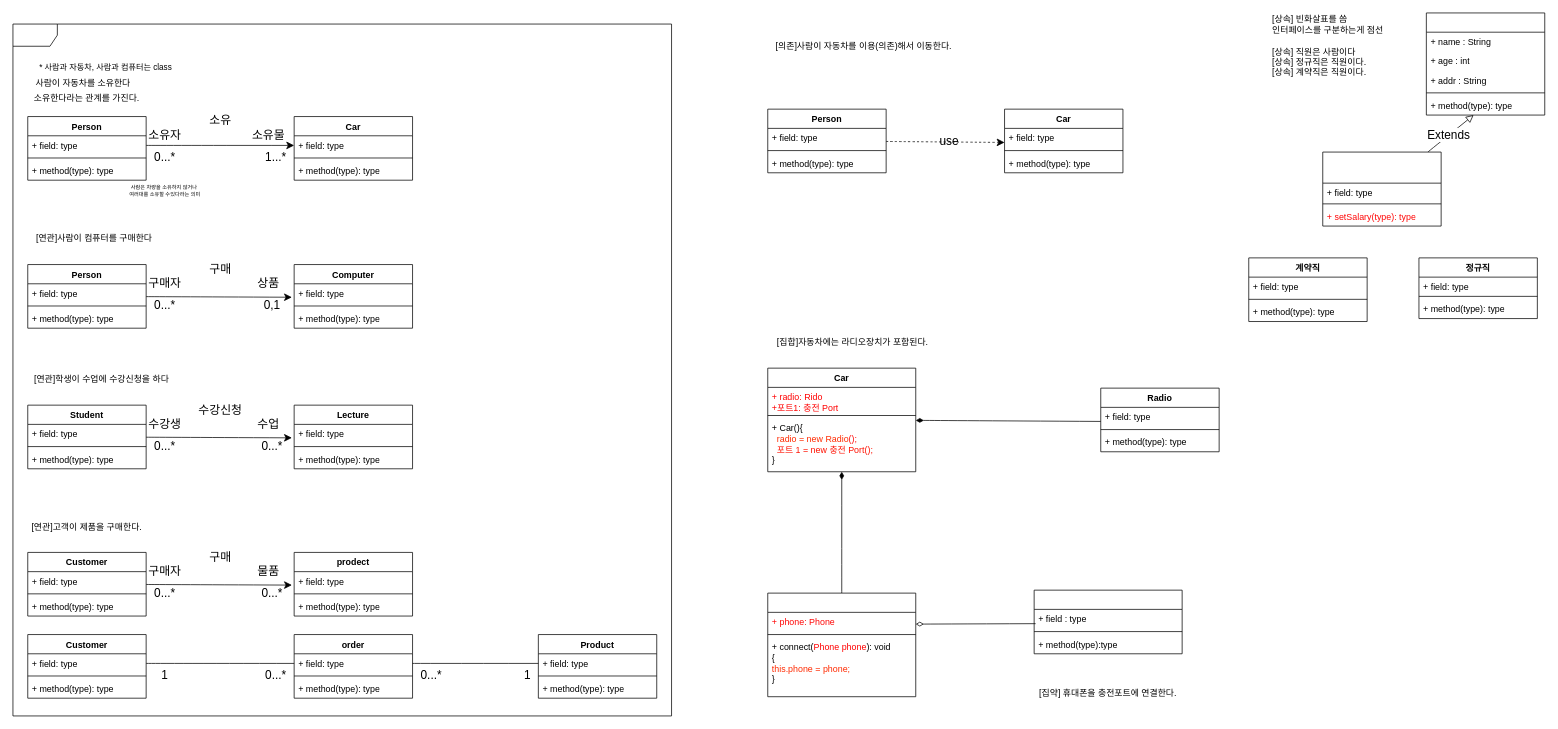
Image size: 1558x729. Some labels were removed from this diagram. Here are the shapes that lost their labels. From the top down, the box of each, then its label:
(1426, 12, 1545, 115): 사람
(1322, 151, 1441, 226): 직원 <<abstract>>
(12, 23, 672, 716): 연관관계
(1033, 589, 1182, 654): Phone
(767, 592, 916, 697): 충전 Port
